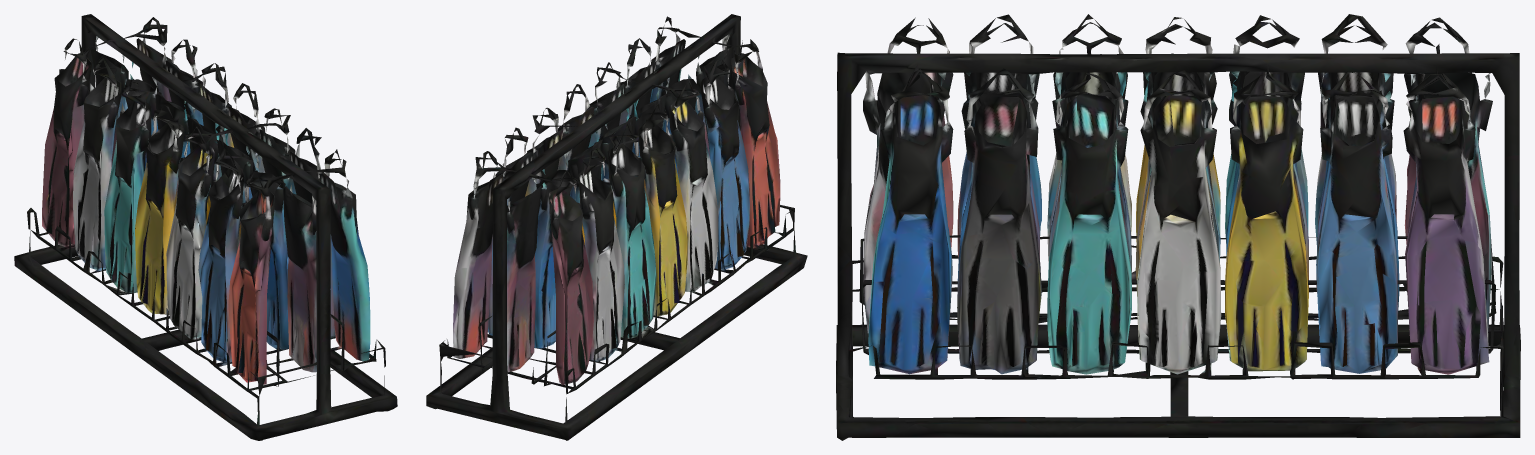
Rendered from vinnenstandaard.glb.
3 renders of one model, left to right at view 1: azimuth 30°, elevation 25°; view 2: azimuth 150°, elevation 25°; view 3: azimuth 270°, elevation 25°, orthographic. The views are drawn at different scales.
Visible parts, largest first — view 1: tripo_node_68c1753f-3520-47bb-9ddd-8a5da93b8b50; view 2: tripo_node_68c1753f-3520-47bb-9ddd-8a5da93b8b50; view 3: tripo_node_68c1753f-3520-47bb-9ddd-8a5da93b8b50.
Boxes of the visible parts, bbox=[...] form: tripo_node_68c1753f-3520-47bb-9ddd-8a5da93b8b50: bbox=[14, 14, 397, 440]; tripo_node_68c1753f-3520-47bb-9ddd-8a5da93b8b50: bbox=[426, 14, 807, 440]; tripo_node_68c1753f-3520-47bb-9ddd-8a5da93b8b50: bbox=[836, 14, 1520, 440].
Size of the model in its own units: 0.5147 by 0.8499 by 1.5.
Materials: 1 (1 with a texture image).
